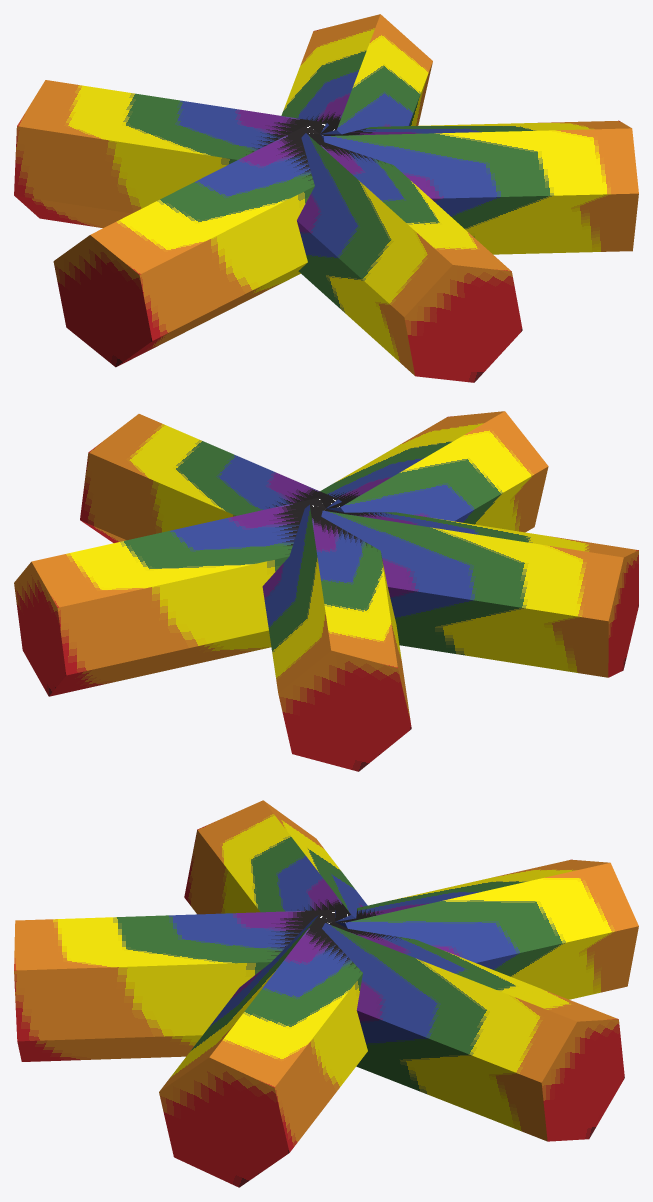
The model's file is Test_RainbowCampfire.glb.
The picture shows the model from 3 angles, top to bottom: view 1: azimuth 30°, elevation 25°; view 2: azimuth 150°, elevation 25°; view 3: azimuth 270°, elevation 25°; orthographic projection. The views are drawn at different scales.
Parts seen in each view (by area): view 1: Test_Campfire; view 2: Test_Campfire; view 3: Test_Campfire.
Boxes of the visible parts, <box> form: Test_Campfire: <box>14,14,638,382</box>; Test_Campfire: <box>14,411,638,771</box>; Test_Campfire: <box>14,800,638,1187</box>.
Bounding box in the file's own units: 1.33 × 0.3287 × 1.29.
1 material, 1 textured.
